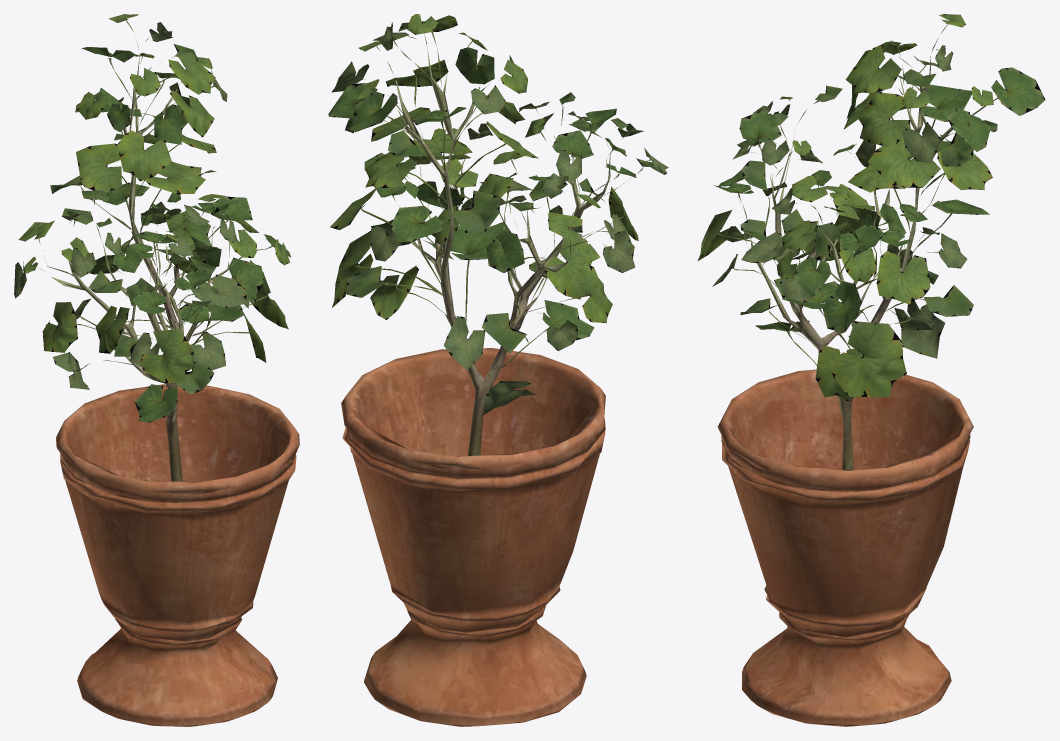
File: potted_plant_01.low.glb
3 renders of one model, left to right at view 1: azimuth 30°, elevation 25°; view 2: azimuth 150°, elevation 25°; view 3: azimuth 270°, elevation 25°, orthographic. The views are drawn at different scales.
Parts seen in each view (by area): view 1: pot, leaves; view 2: pot, leaves; view 3: pot, leaves.
Boxes of the visible parts, left/top/right/bottom form: pot: left=51, top=56, right=299, bottom=726; leaves: left=14, top=14, right=291, bottom=422; pot: left=341, top=48, right=610, bottom=726; leaves: left=328, top=14, right=668, bottom=414; pot: left=717, top=56, right=973, bottom=726; leaves: left=697, top=14, right=1045, bottom=401.
Size of the model in its own units: 0.5858 by 1.34 by 0.6332.
2 materials, 2 textured.
